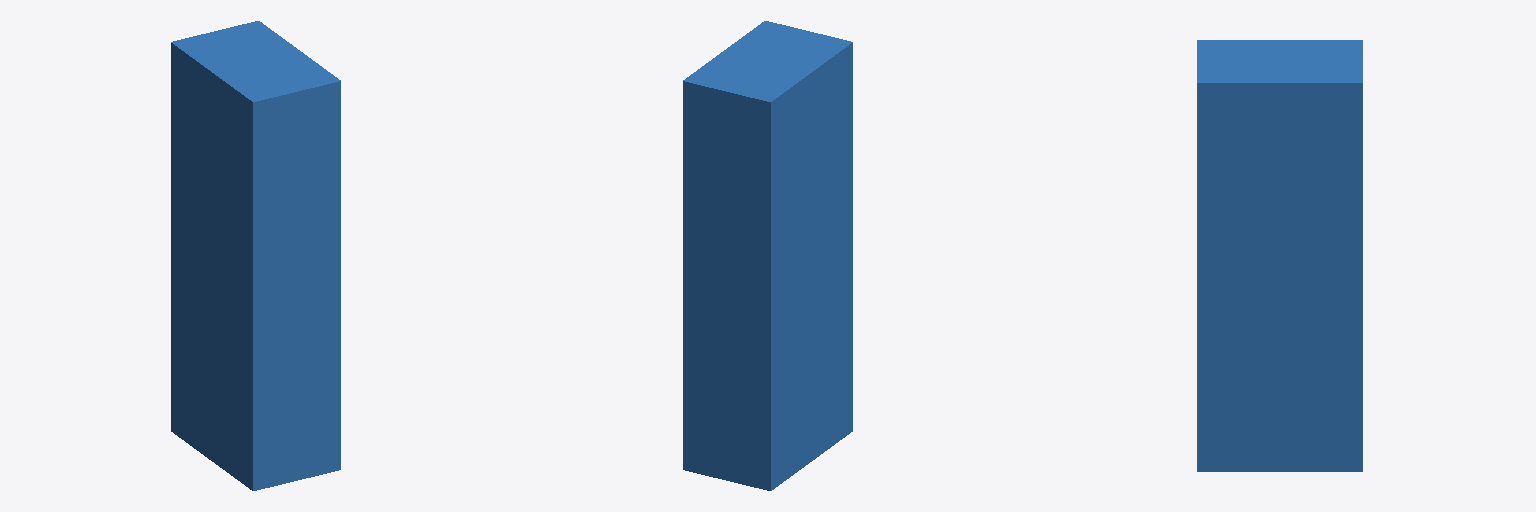
3 renders of one model, left to right at view 1: azimuth 30°, elevation 25°; view 2: azimuth 150°, elevation 25°; view 3: azimuth 270°, elevation 25°, orthographic.
Visible parts, largest first — view 1: legL; view 2: legL; view 3: legL.
Boxes of the visible parts, x1=… form: legL: x1=171, y1=21, x2=340, y2=490; legL: x1=683, y1=21, x2=852, y2=490; legL: x1=1197, y1=40, x2=1362, y2=471.
Size of the model in its own units: 1.02 by 4.29 by 1.65.
1 materials, 1 textured.